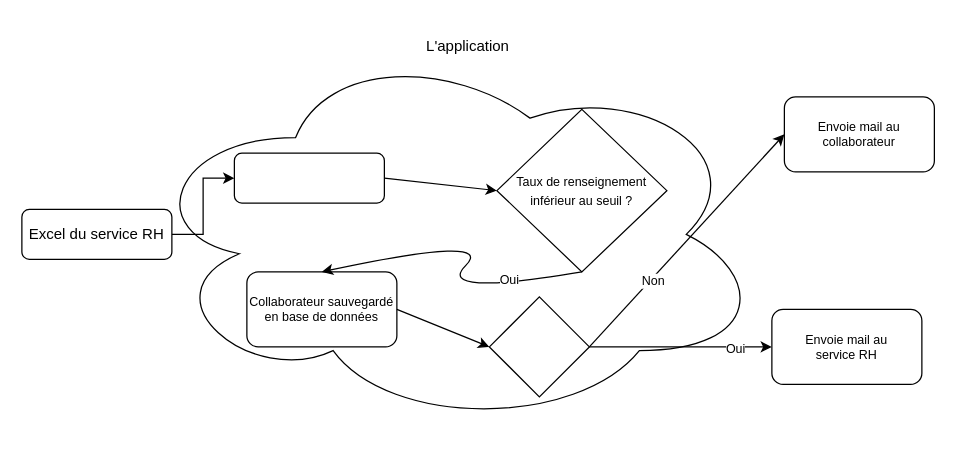
This 956x450 diagram has some shape labels left out. The shapes that lost their labels are listed below. From the top down, each one's centre as x and y in pixels, then its label:
At pixel 308 177: "Traitement des données".
At pixel 538 346: "5ème mail ?".
